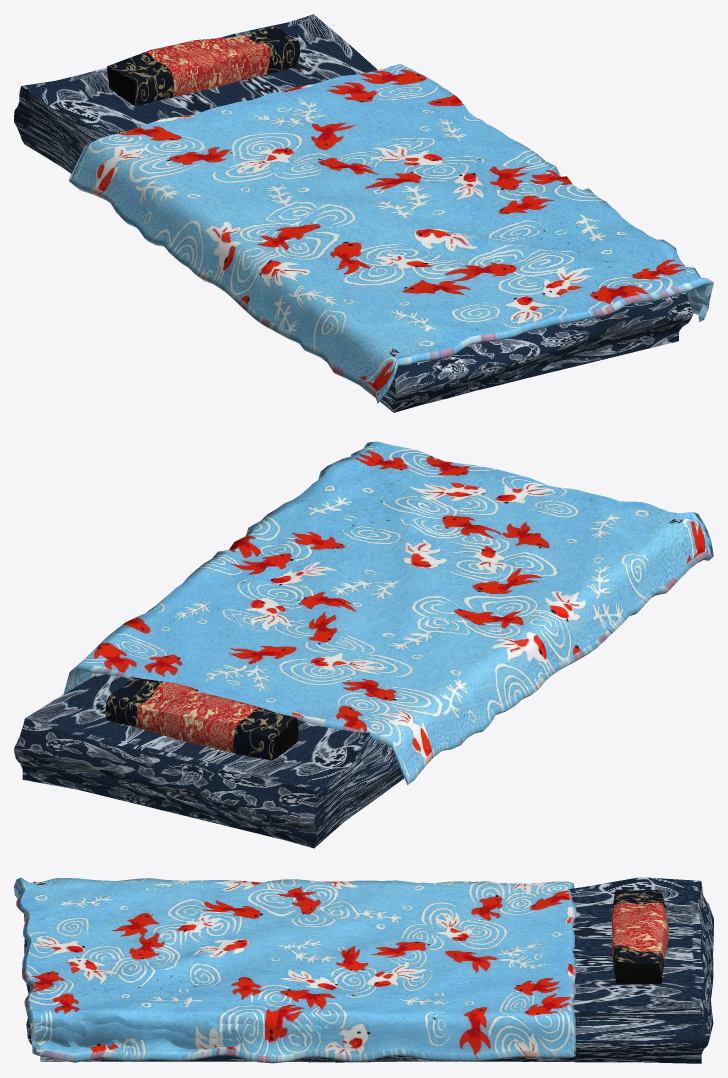
The model's file is bed.fbx.
3 views of the same model, one above another, from view 1: azimuth 30°, elevation 25°; view 2: azimuth 150°, elevation 25°; view 3: azimuth 270°, elevation 25° (orthographic). The views are drawn at different scales.
Parts seen in each view (by area): view 1: pPlane3, pCube218, pCube219; view 2: pPlane3, pCube218, pCube219; view 3: pPlane3, pCube218, pCube219.
Boxes of the visible parts, <box> form: pPlane3: <box>68,64,713,403</box>; pCube218: <box>14,14,693,412</box>; pCube219: <box>107,26,299,105</box>; pPlane3: <box>63,441,713,784</box>; pCube218: <box>14,518,685,848</box>; pCube219: <box>105,677,298,760</box>; pPlane3: <box>14,877,576,1063</box>; pCube218: <box>24,877,713,1063</box>; pCube219: <box>611,889,668,983</box>.
Bounding box in the file's own units: 160 × 38.75 × 309.
3 materials, 3 textured.
